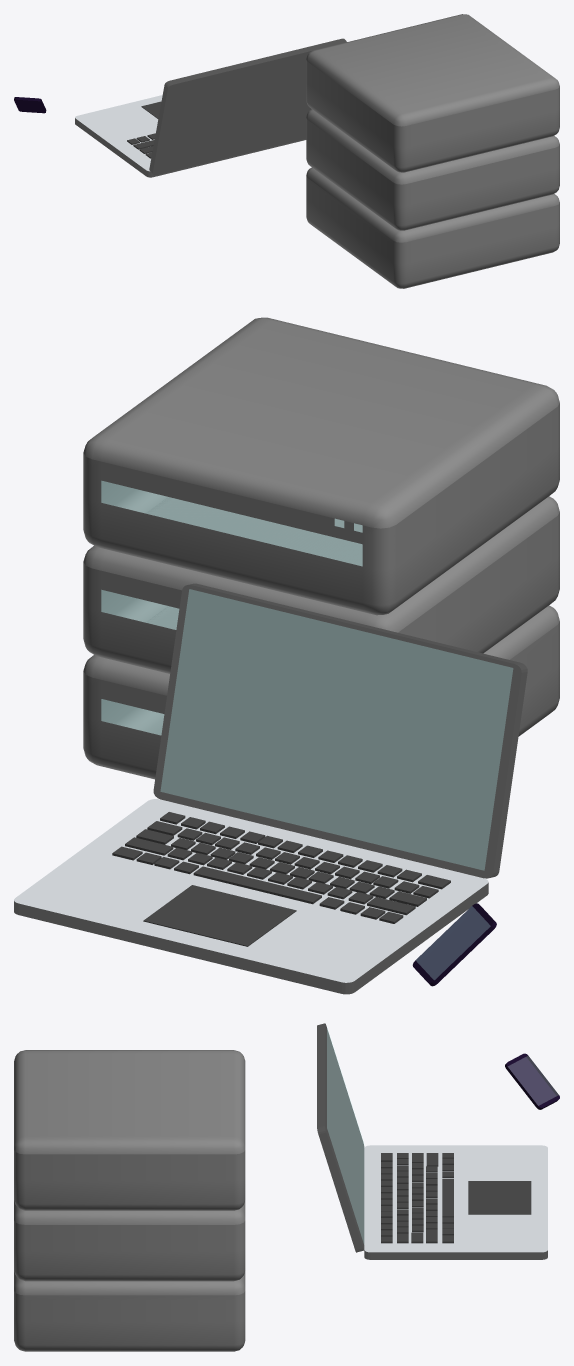
The model's file is laptop.glb.
The picture shows the model from 3 angles, top to bottom: view 1: azimuth 30°, elevation 25°; view 2: azimuth 150°, elevation 25°; view 3: azimuth 270°, elevation 25°; orthographic projection. The views are drawn at different scales.
Parts seen in each view (by area): view 1: Server, Top, Bottom, Keyboard, Phone; view 2: Server, Top, Screen, Bottom, Keyboard, Phone; view 3: Server, Bottom, Keyboard, Top, Screen, Phone.
Part boxes in pixels (x1,y1,x2,y2): Server: (306, 14, 559, 288); Top: (149, 38, 346, 175); Bottom: (75, 95, 306, 177); Keyboard: (127, 101, 161, 158); Phone: (14, 97, 46, 113); Server: (83, 317, 559, 779); Top: (153, 583, 527, 878); Screen: (161, 589, 512, 869); Bottom: (14, 799, 488, 994); Keyboard: (112, 812, 450, 946); Phone: (412, 903, 496, 986); Server: (14, 1050, 245, 1351); Bottom: (364, 1145, 547, 1259); Keyboard: (381, 1153, 531, 1243); Top: (317, 1023, 364, 1252); Screen: (327, 1028, 363, 1242); Phone: (505, 1053, 559, 1109).
Bounding box in the file's own units: 0.3745 × 0.1843 × 0.4313.
